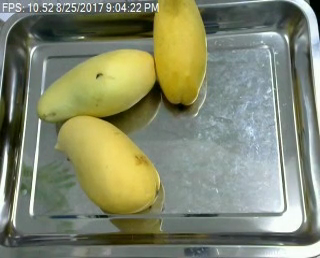Mango: (53, 114, 162, 217), (35, 46, 158, 126), (152, 0, 208, 107)
